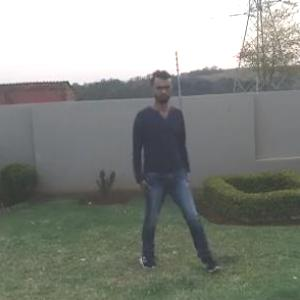follow: (119, 70, 186, 274)
